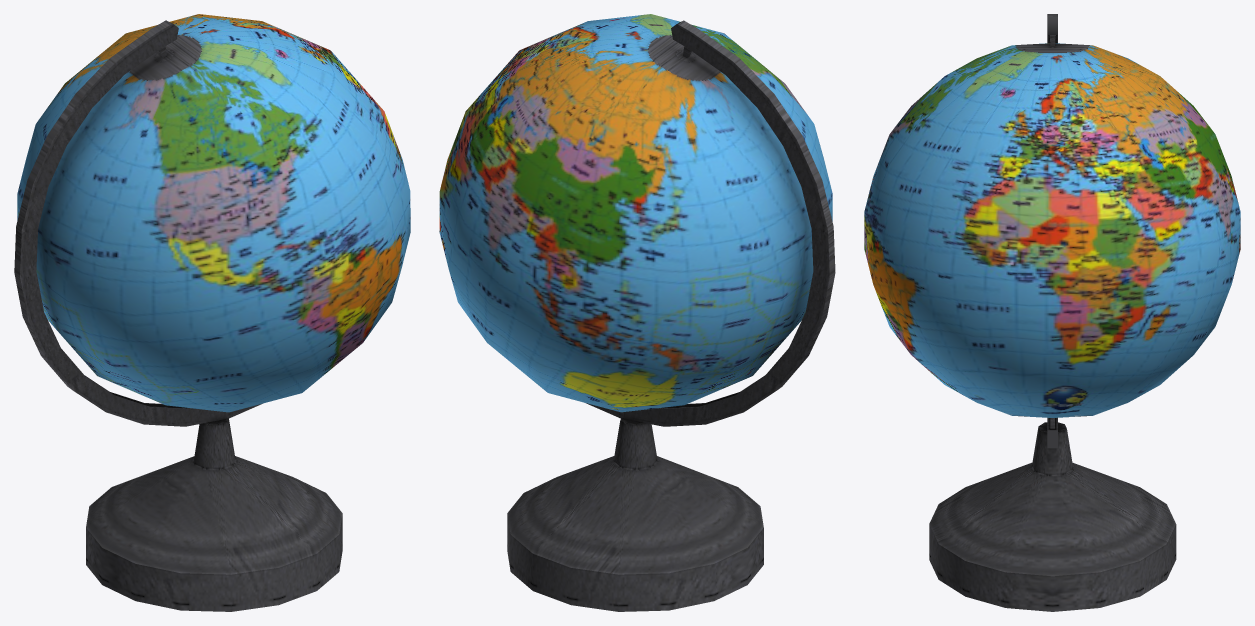
File: Globe.FBX
The picture shows the model from 3 angles, left to right: view 1: azimuth 30°, elevation 25°; view 2: azimuth 150°, elevation 25°; view 3: azimuth 270°, elevation 25°; orthographic projection. The views are drawn at different scales.
Parts seen in each view (by area): view 1: Globe; view 2: Globe; view 3: Globe.
Part boxes in pixels (x1,y1,x2,y2): Globe: [14, 14, 410, 611]; Globe: [439, 14, 835, 611]; Globe: [864, 14, 1240, 611].
Size of the model in its own units: 42.75 by 39.66 by 60.71.
